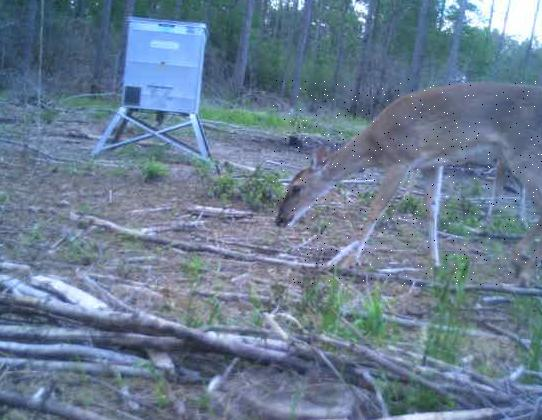Deer: (272, 78, 542, 286)
